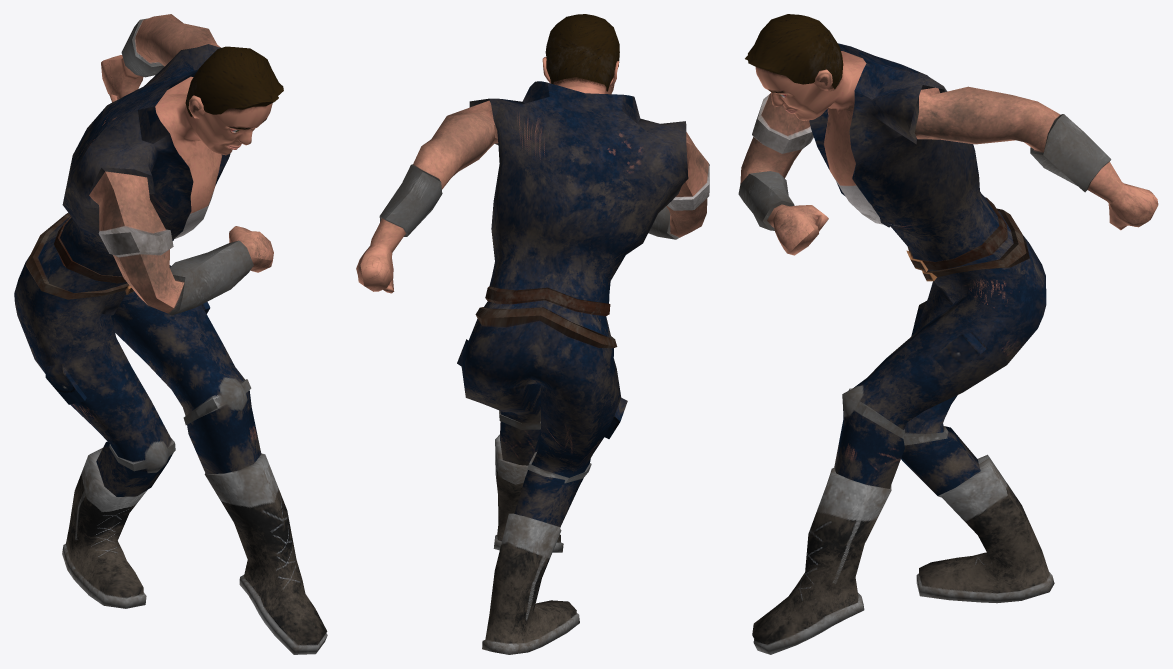
The model's file is Anim_dash_jugador.0025.obj.
The picture shows the model from 3 angles, left to right: view 1: azimuth 30°, elevation 25°; view 2: azimuth 150°, elevation 25°; view 3: azimuth 270°, elevation 25°; orthographic projection. The views are drawn at different scales.
Visible parts, largest first — view 1: polySurface1; view 2: polySurface1; view 3: polySurface1.
Part boxes in pixels (<box>): polySurface1: <box>14,14,327,654</box>; polySurface1: <box>356,14,709,654</box>; polySurface1: <box>738,14,1158,654</box>.
Bounding box in the file's own units: 3 × 8.19 × 5.16.
